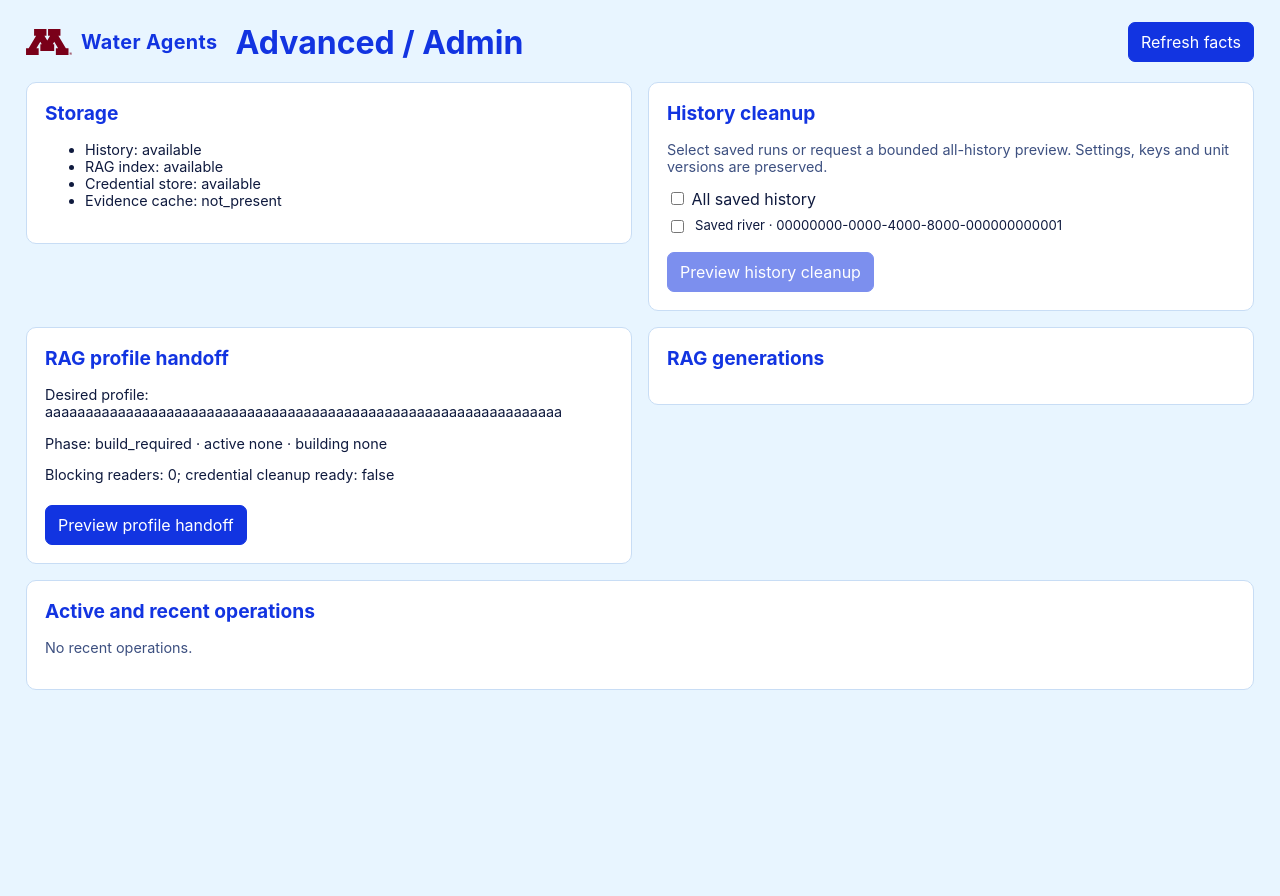
Test case: replays the exact Admin request after an unknown response
expect the text "Saved river · 00000000-0000-4000-8000-000000000001" is shown: met, box [671, 217, 1062, 233]
Click the checkbox labelled "Saved river · 00000000-0000-4000-8000-000000000001": [678, 227] box [671, 220, 684, 233]
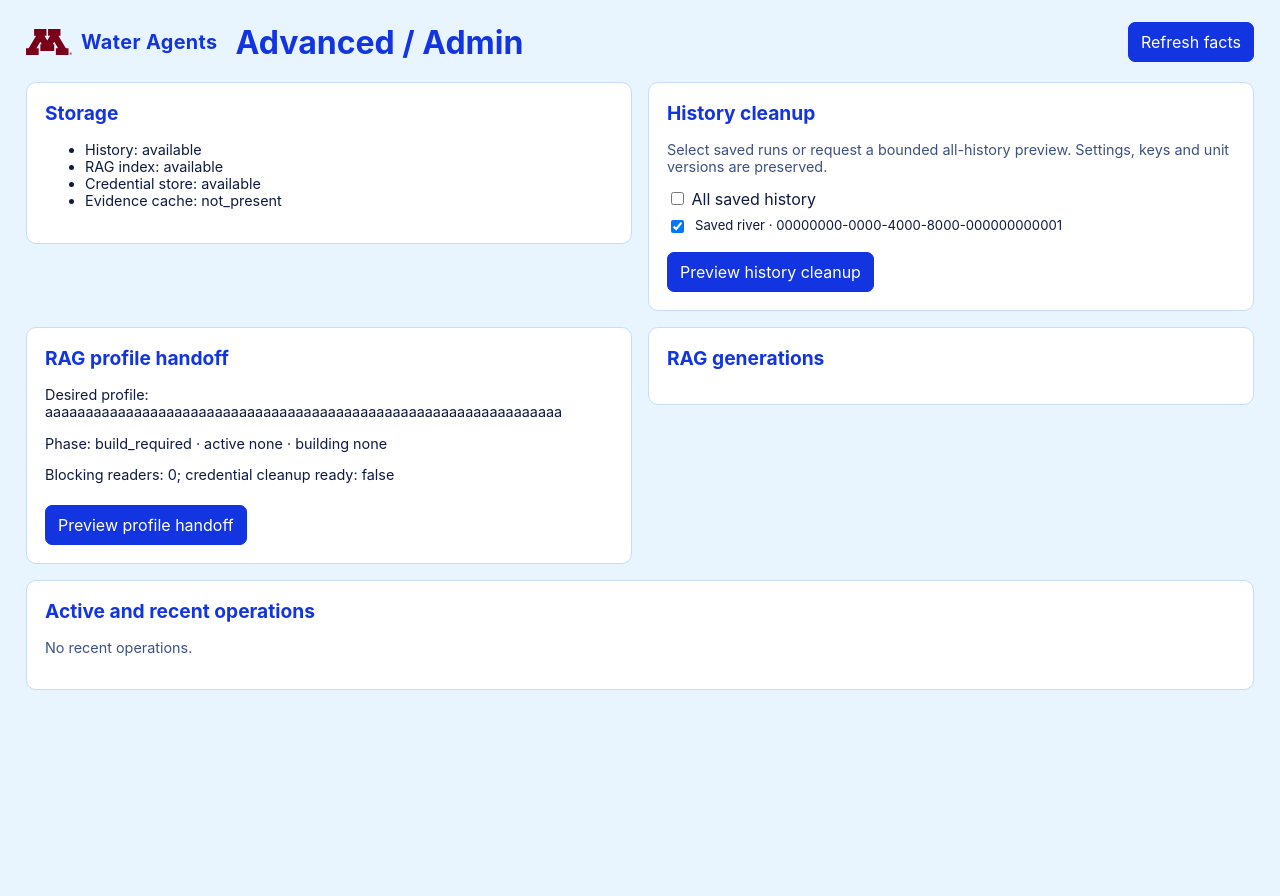
Click the button "Preview history cleanup": [770, 272] box [667, 252, 874, 292]
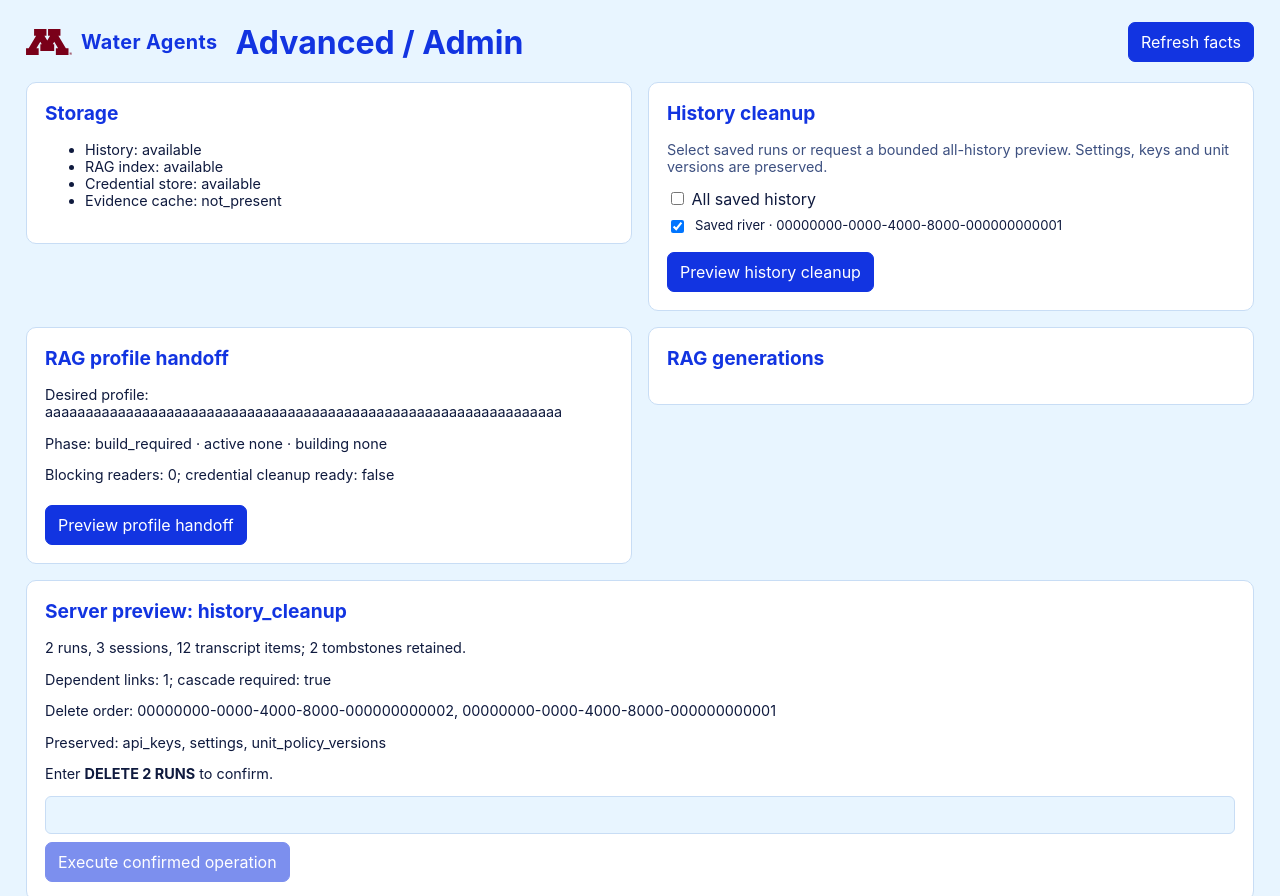
expect the field named "Admin confirmation phrase" is shown: met
In the field named "Admin confirmation phrase": [640, 815] box [45, 796, 1235, 834], type "DELETE 2 RUNS"
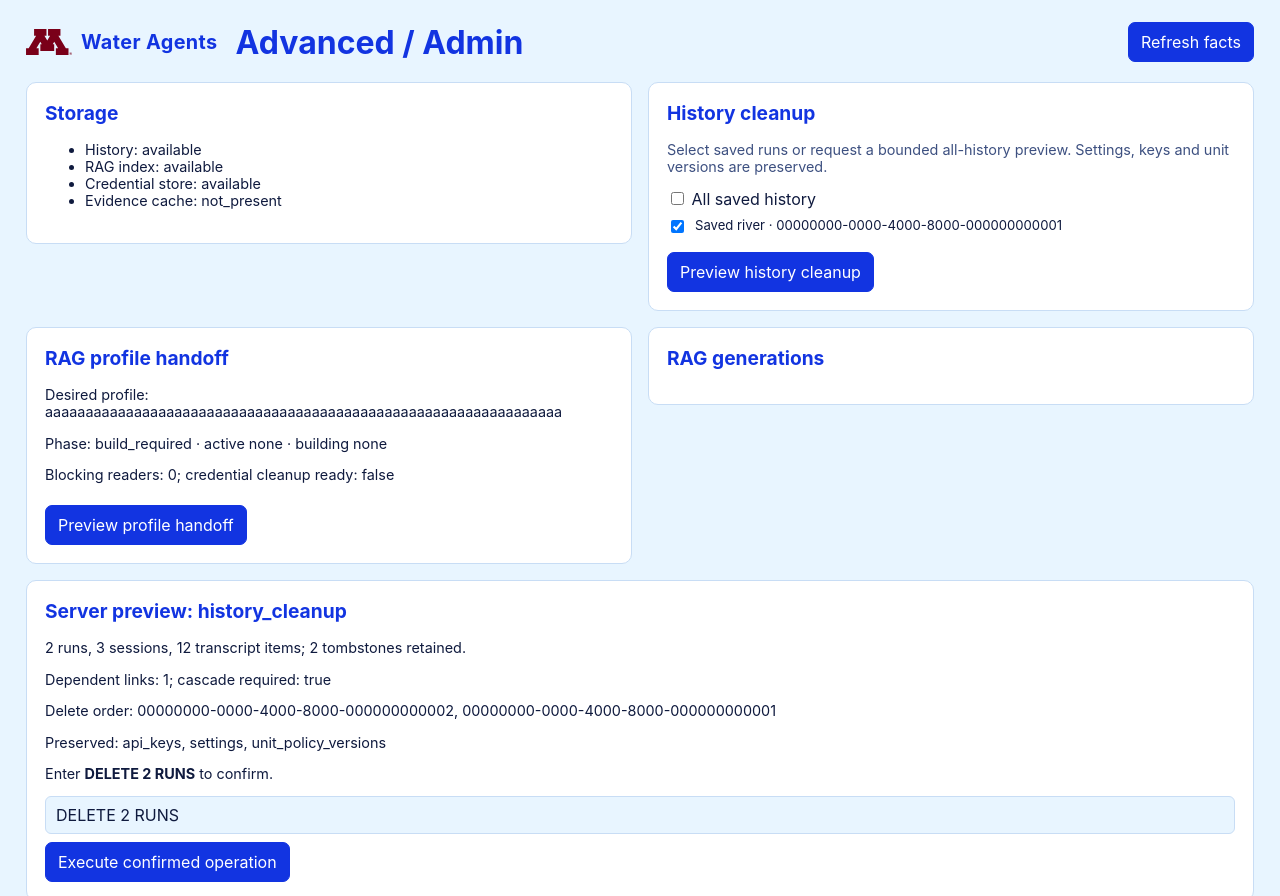
Click the button "Execute confirmed operation": [167, 862] box [45, 842, 290, 882]
(page scrolled)
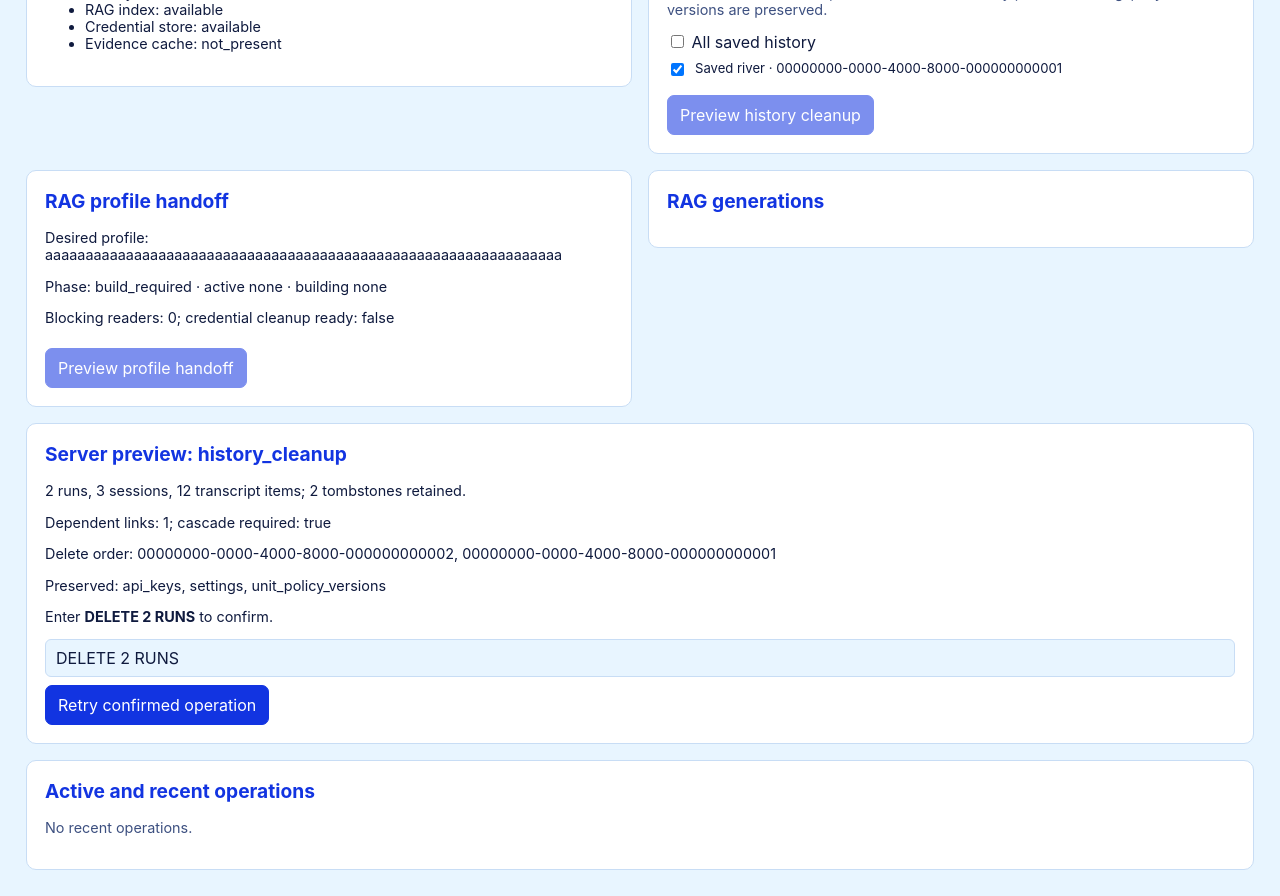
Click the button "Retry confirmed operation": [157, 705] box [45, 685, 269, 725]
(page scrolled)
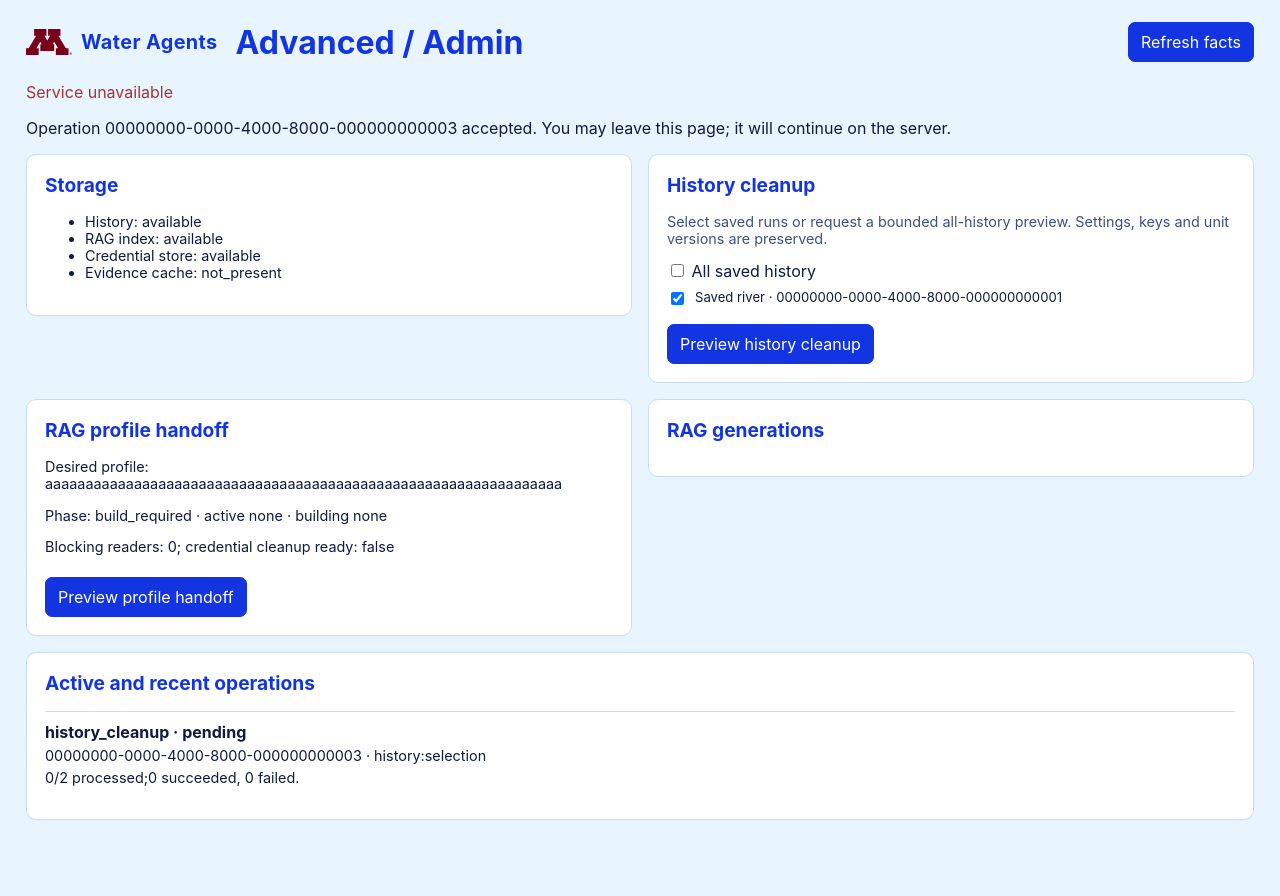
expect the text "accepted. You may leave this page" is shown: met, box [26, 118, 951, 138]
